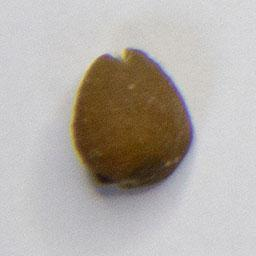defect: (69, 45, 196, 193)
